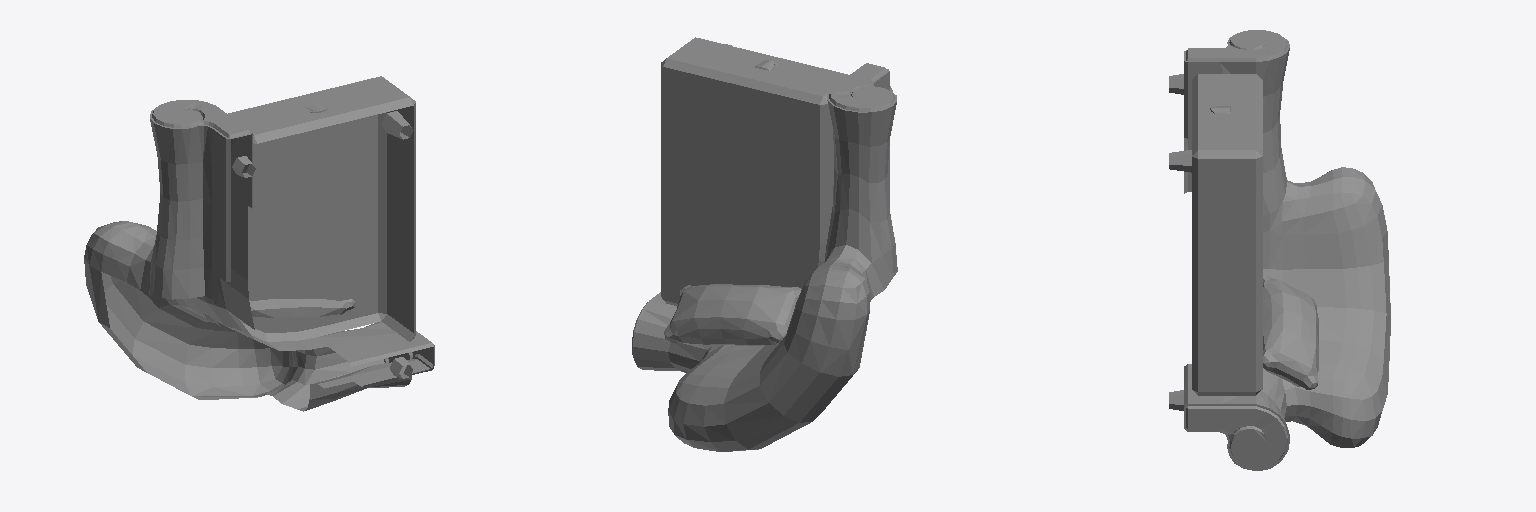
The model's file is HomeBed.obj.
3 views of the same model, side by side, from view 1: azimuth 30°, elevation 25°; view 2: azimuth 150°, elevation 25°; view 3: azimuth 270°, elevation 25° (orthographic).
Parts seen in each view (by area): view 1: Bed__BodyMT; view 2: Bed__BodyMT; view 3: Bed__BodyMT.
Boxes of the visible parts, x1=… form: Bed__BodyMT: x1=84, y1=76, x2=434, y2=411; Bed__BodyMT: x1=632, y1=37, x2=897, y2=451; Bed__BodyMT: x1=1169, y1=30, x2=1390, y2=470.
Bounding box in the file's own units: 228 × 282 × 165.